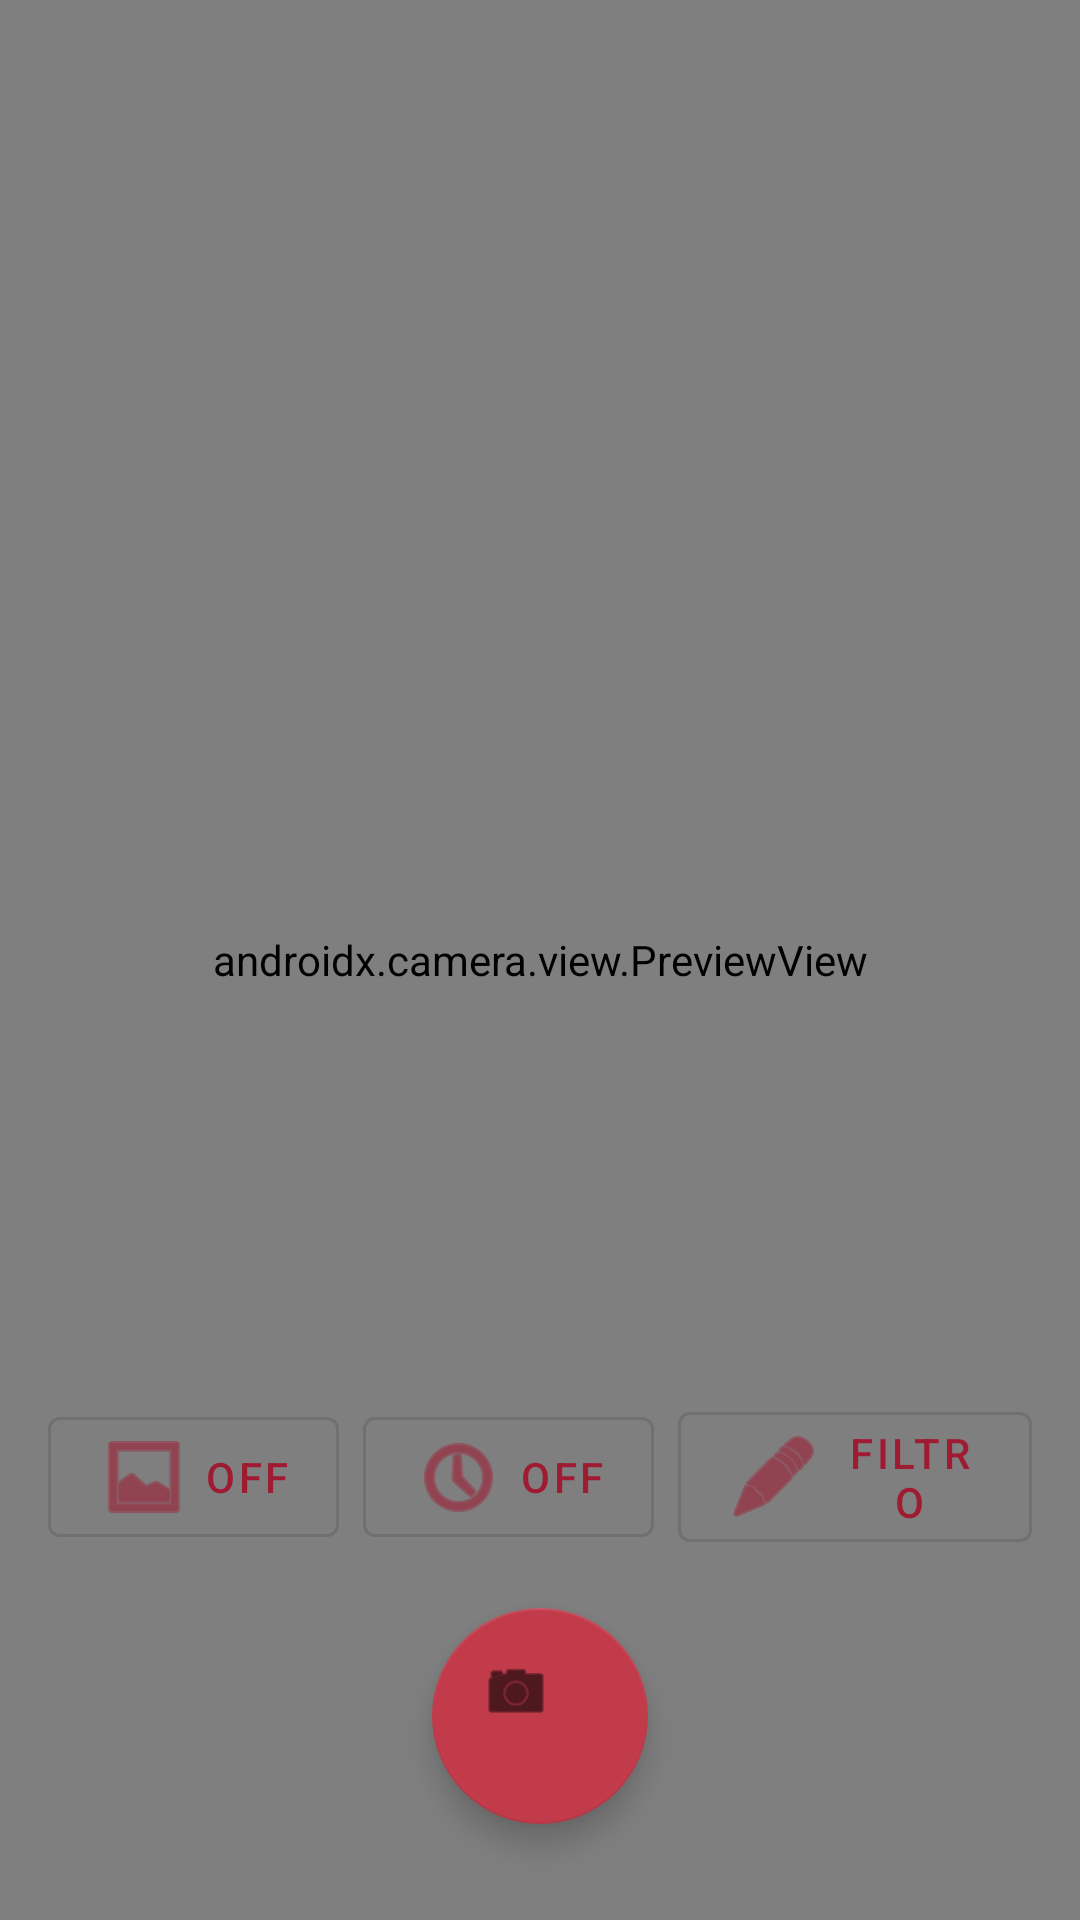

Icons on this 1080 x 1920 Android screen, each with the point to tap as [x,y]:
Capturar foto: [540,1716]
